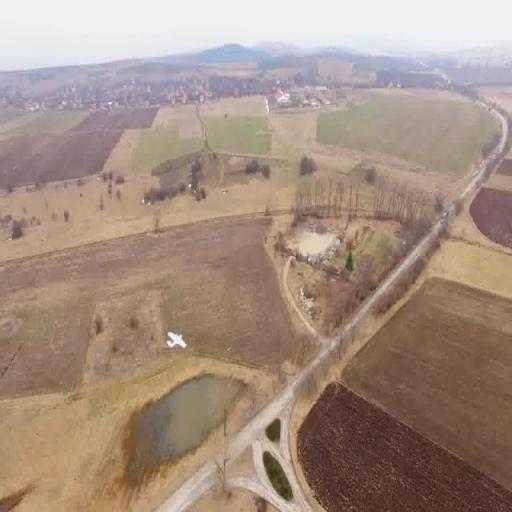uav: (162, 322, 182, 353)
